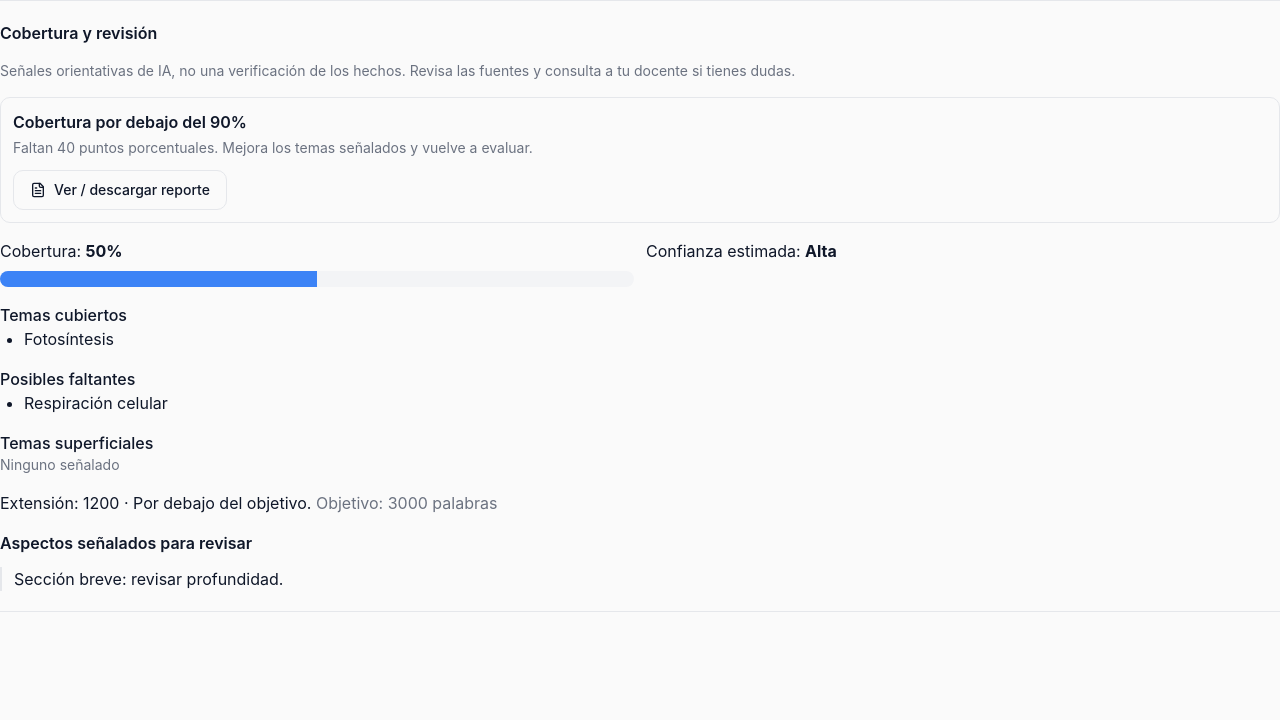
panel de cobertura para estudiantes › muestra las señales guardadas sin acciones docentes ni nuevas llamadas de IA
Check: the text "50%" is shown, box x1=86 y1=241 x2=122 y2=261
Check: the list item "Fotosíntesis" is shown, box x1=24 y1=329 x2=114 y2=349
Click the button "Ver / descargar reporte" at [120, 190], box x1=13 y1=170 x2=227 y2=210
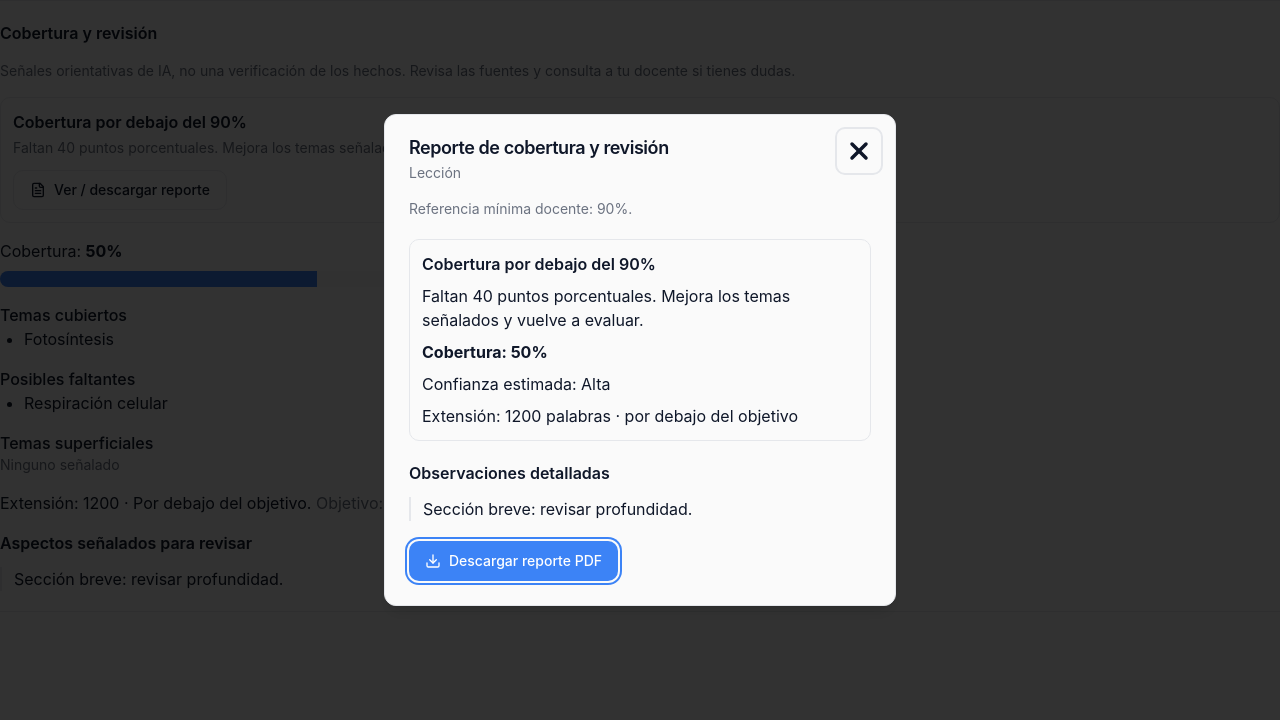
Check: the dialog is shown, box x1=384 y1=114 x2=896 y2=606
Check: the button "Descargar reporte PDF" is shown, box x1=409 y1=541 x2=618 y2=581
